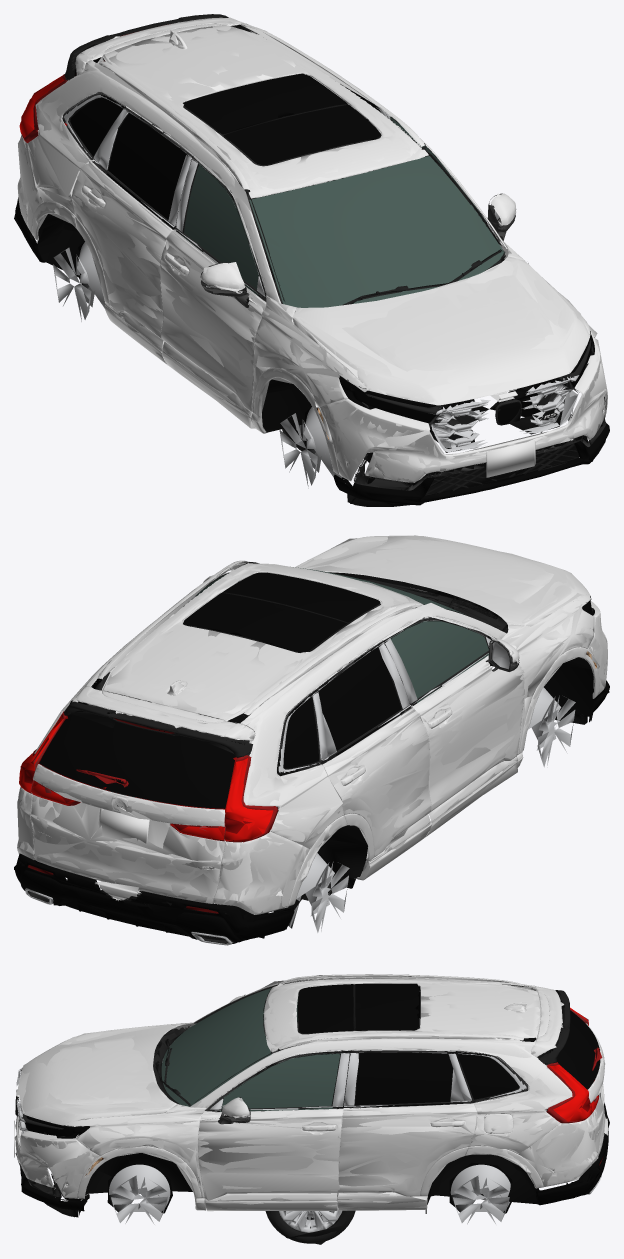
File: suv9.glb
The picture shows the model from 3 angles, top to bottom: view 1: azimuth 30°, elevation 25°; view 2: azimuth 150°, elevation 25°; view 3: azimuth 270°, elevation 25°; orthographic projection. The views are drawn at different scales.
Parts seen in each view (by area): view 1: body0, body2, body1; view 2: body0, body2, body1; view 3: body0, body2, body1, wheel0, wheel1.
Boxes of the visible parts, box(x1,y1,x2,y2) form: body0: box(15, 14, 609, 506); body2: box(14, 17, 609, 503); body1: box(17, 18, 607, 506); body0: box(14, 535, 609, 945); body2: box(14, 535, 609, 940); body1: box(17, 536, 607, 937); body0: box(14, 974, 608, 1217); body2: box(14, 975, 609, 1224); body1: box(15, 974, 607, 1214); wheel0: box(265, 1203, 355, 1243); wheel1: box(268, 1204, 352, 1244).
Size of the model in its own units: 2.15 by 2.07 by 4.69.
